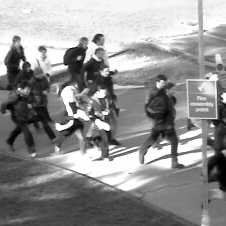person: (136, 83, 186, 166), (58, 78, 88, 156), (5, 81, 36, 156), (31, 66, 58, 145), (90, 82, 113, 161), (92, 65, 120, 112), (146, 74, 169, 121), (3, 34, 26, 81), (86, 32, 110, 67), (13, 60, 34, 98), (85, 46, 106, 82), (70, 35, 88, 74), (33, 44, 51, 81)
